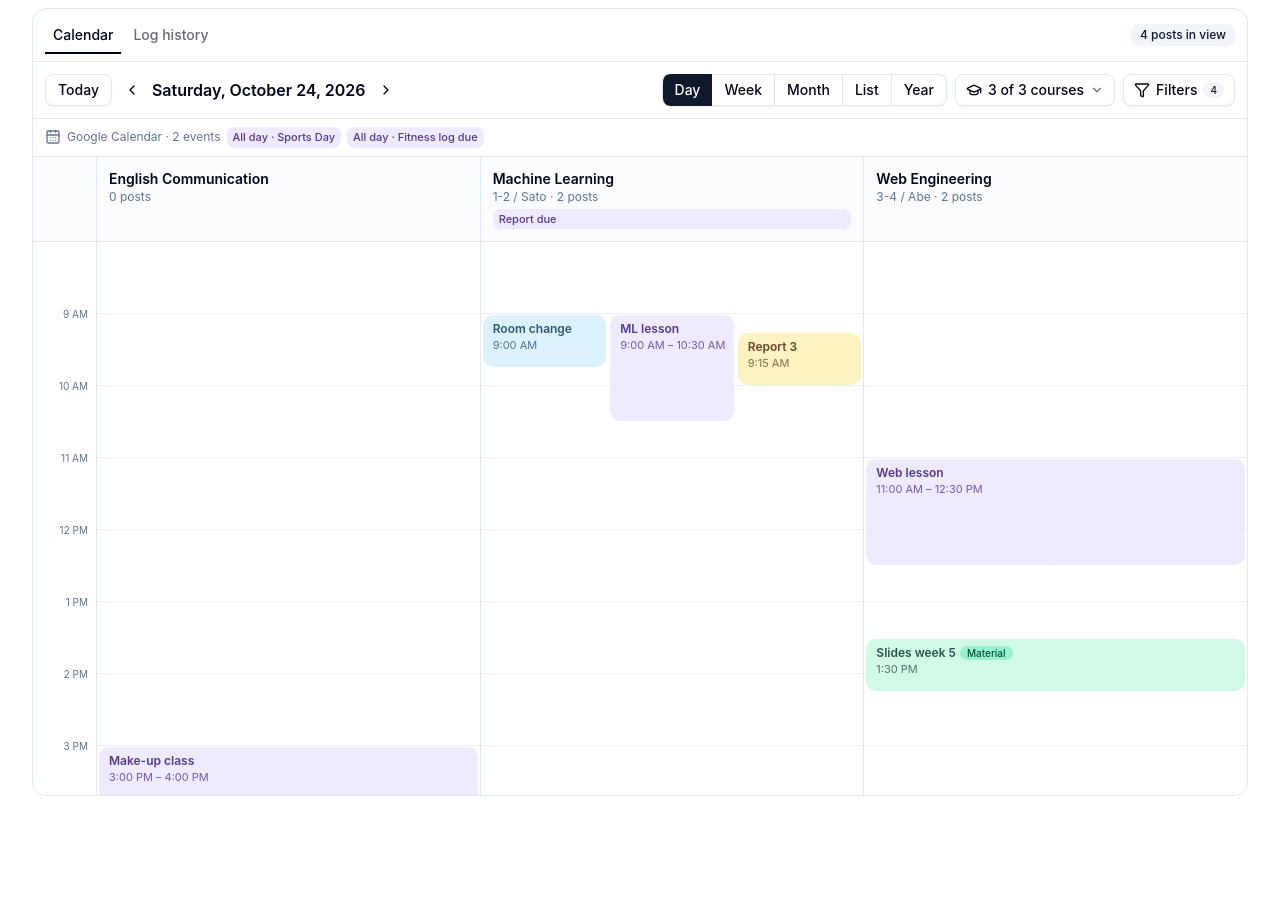
Scenario: CalendarPage › shows the month, the list and the year, and opens a day from them
Click the button "Month" at (809, 90), box [775,74,843,106]
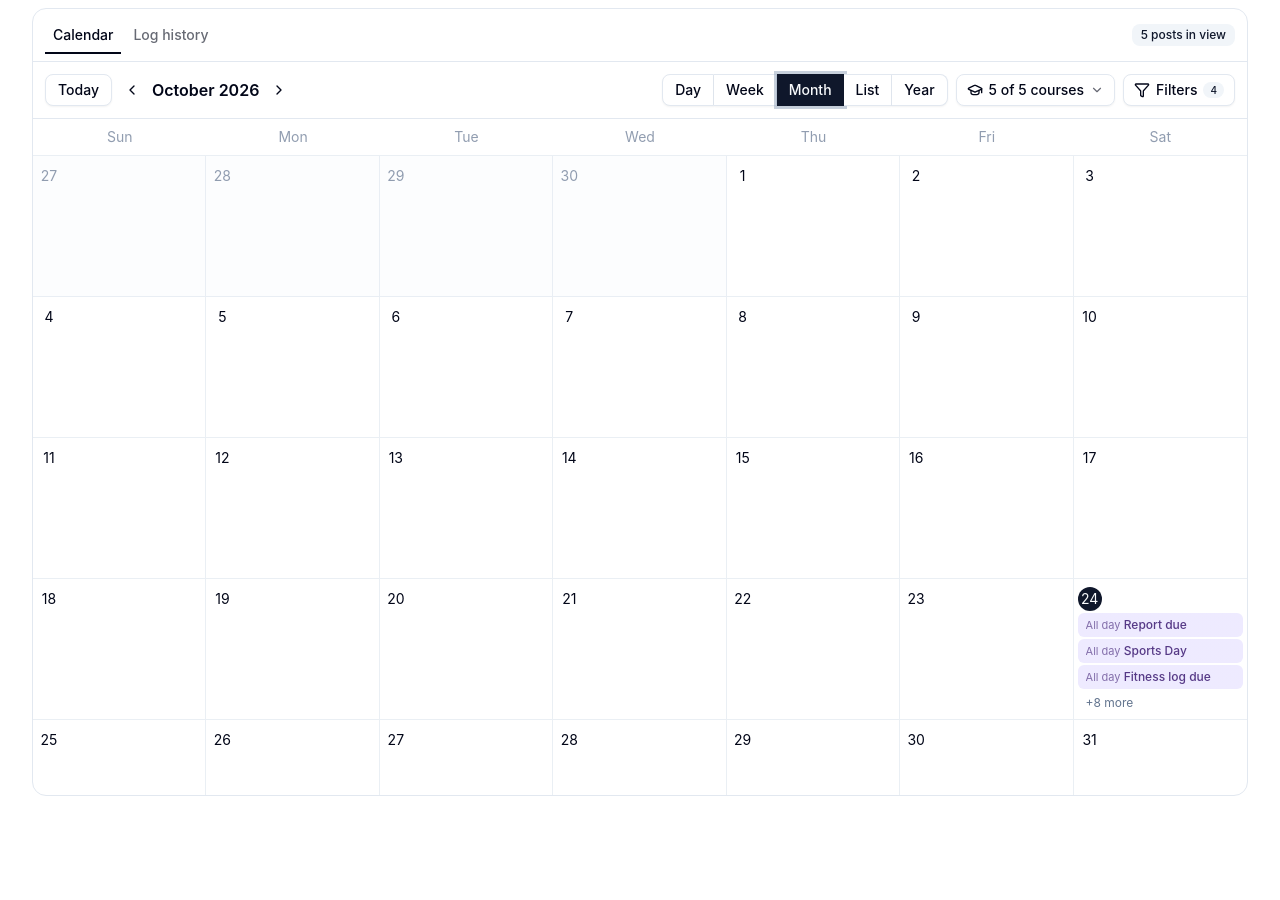
Now the button "All day Sports Day" is shown, box [1078,639,1243,663]
Click the button "List" at (868, 90), box [844,74,892,106]
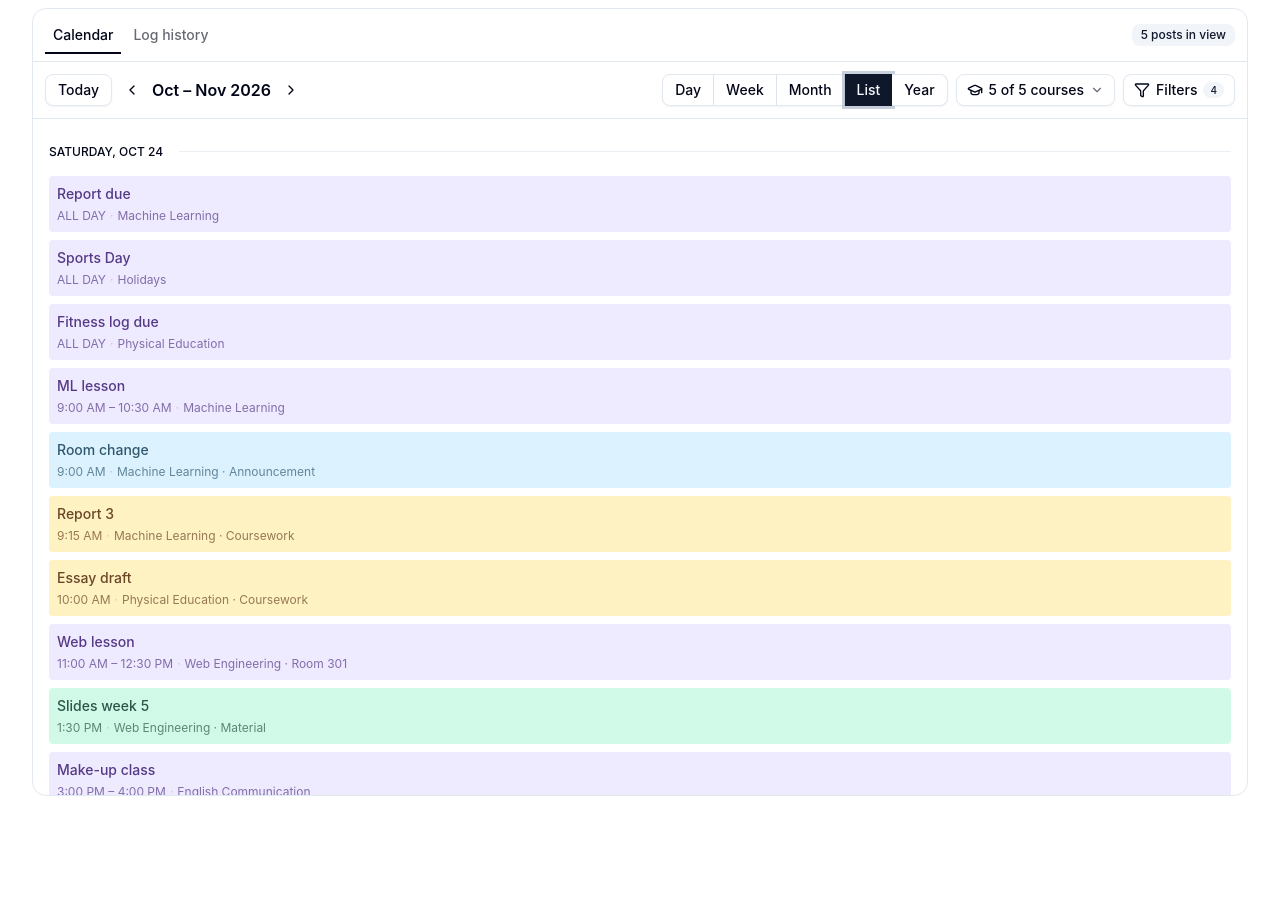
Now the button "Web lesson 11:00 AM – 12:30 PM·Web Engineering · Room 301" is shown, box [49,624,1231,680]
Click the button "Essay draft 10:00 AM·Physical Education · Coursework" at (94, 578), box [49,560,1231,616]
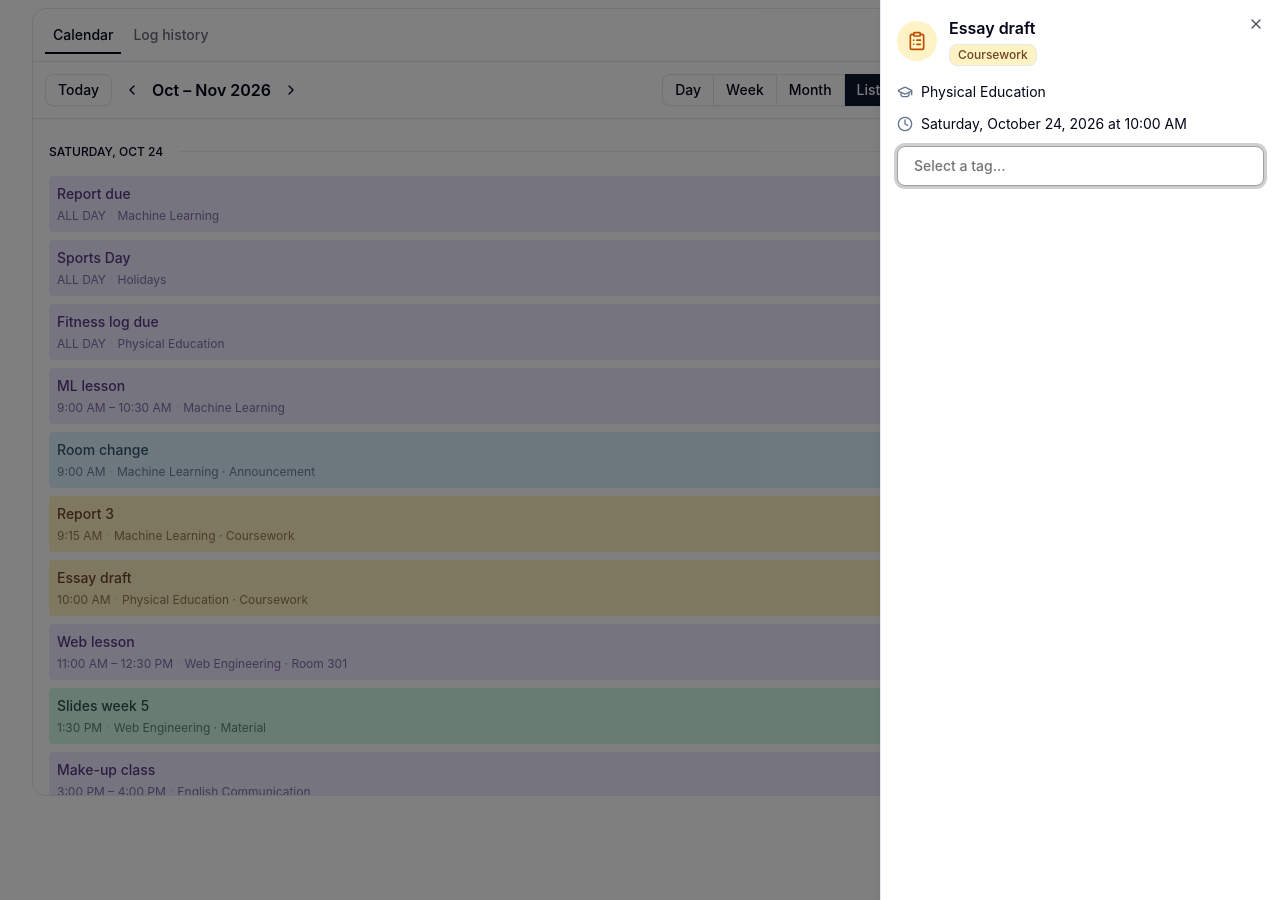
Now the dialog shows "Physical Education", box [921,83,1046,100]
Click the button named "Close" at (1256, 24), box [1248,16,1264,32]
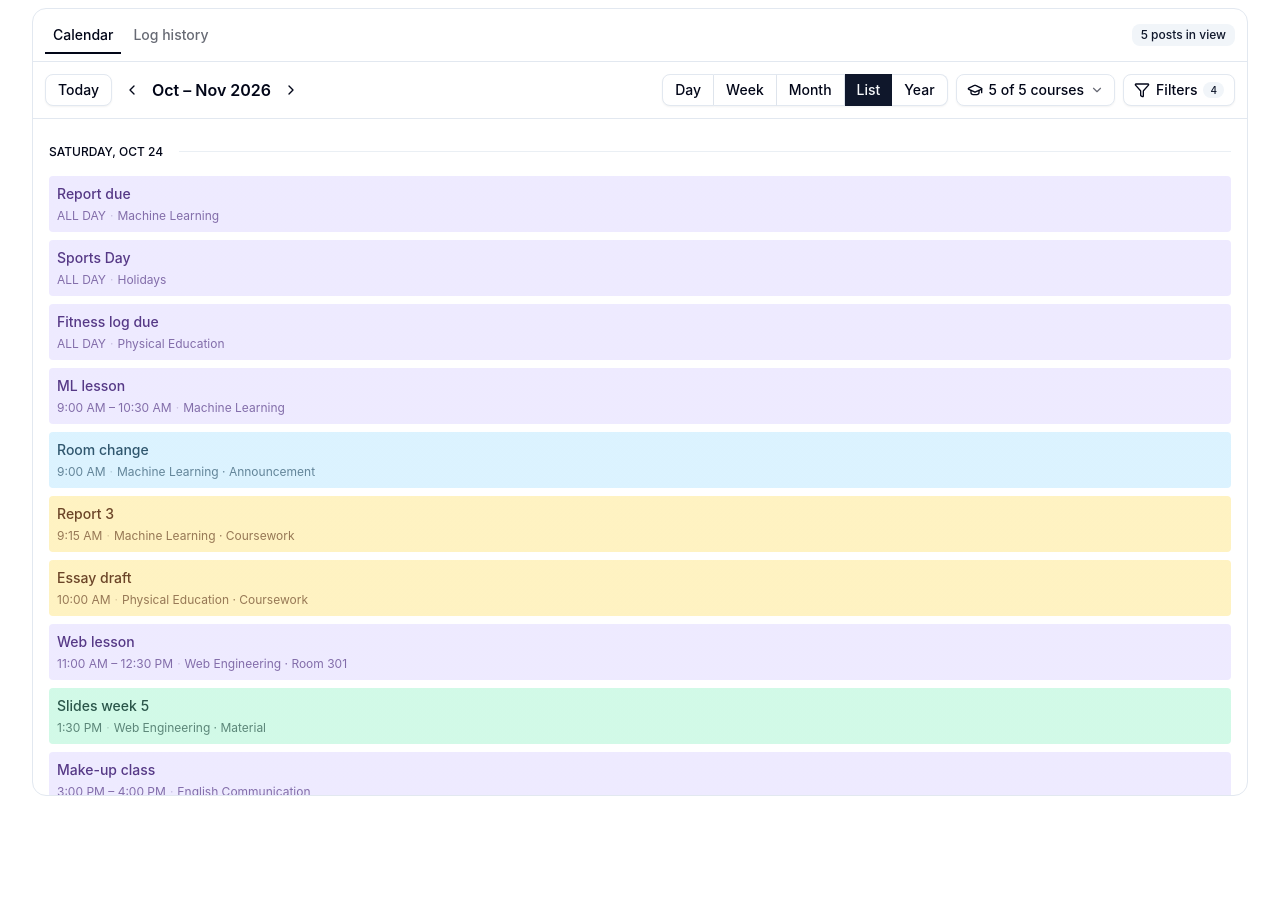
Click the button "Year" at (920, 90), box [892,74,948,106]
(page scrolled)
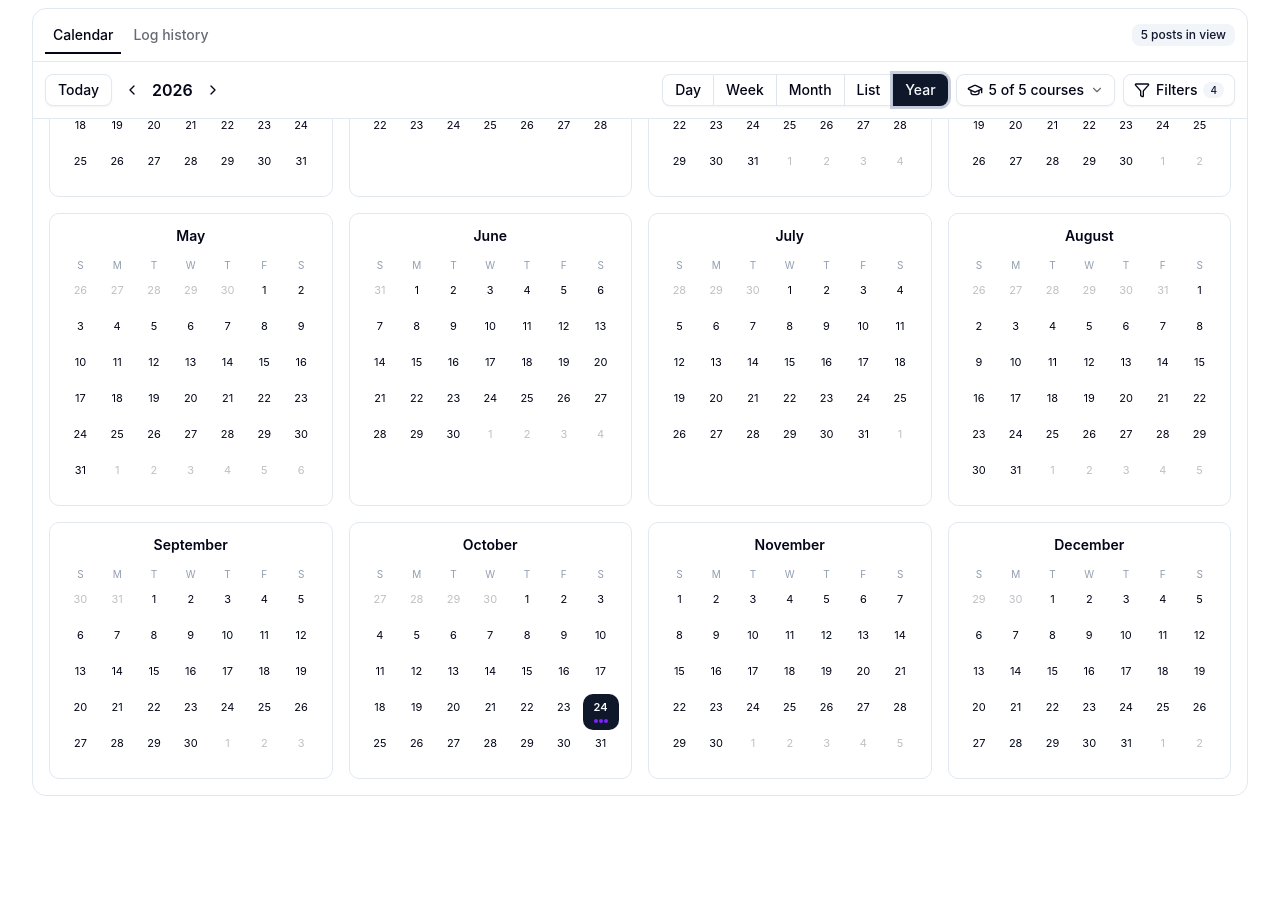
Click the button "24" below "October" at (601, 712), box [583,694,619,730]
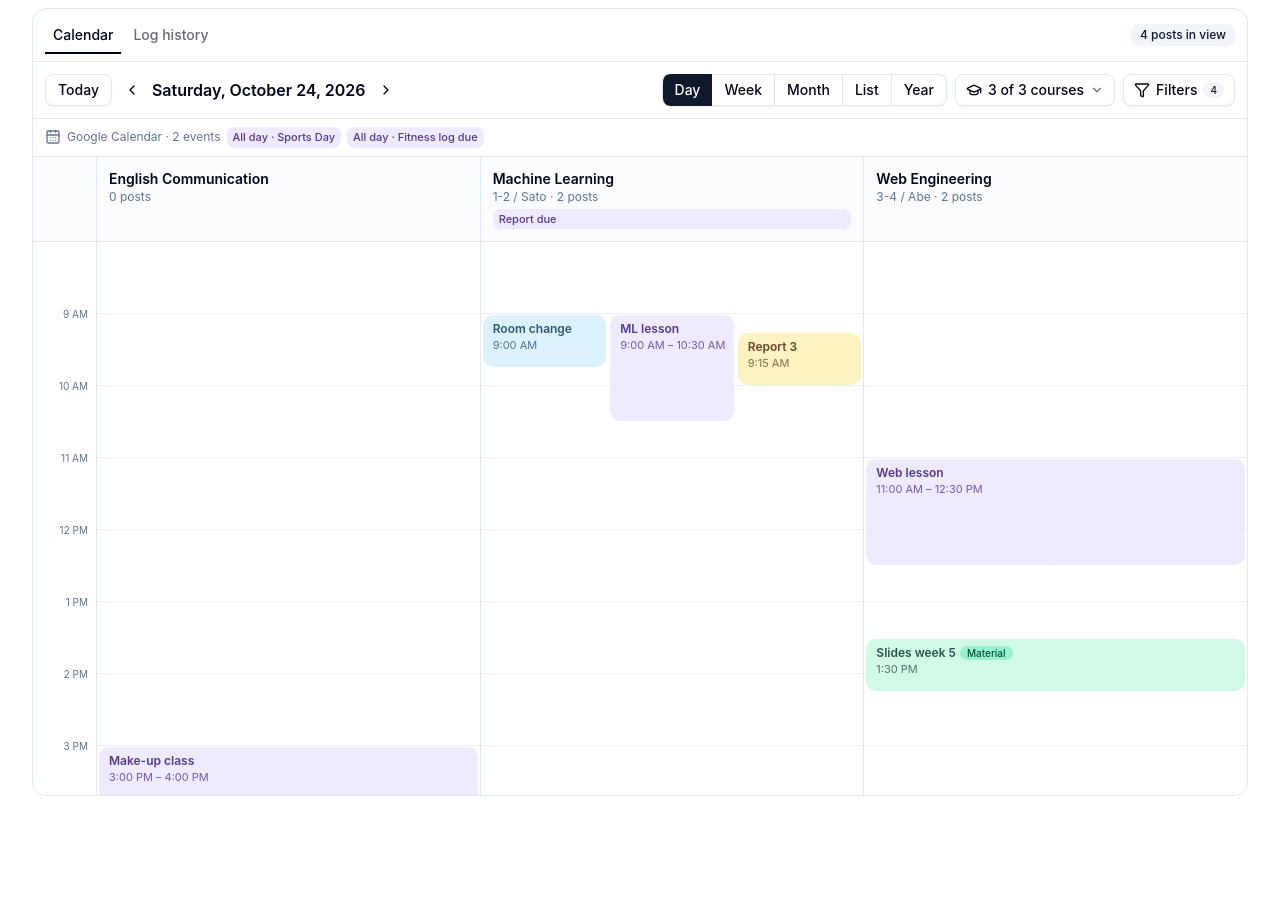
Now the text "Room change" is shown, box [493,321,572,337]
Now the button "3 of 3 courses" is shown, box [955,74,1115,106]
